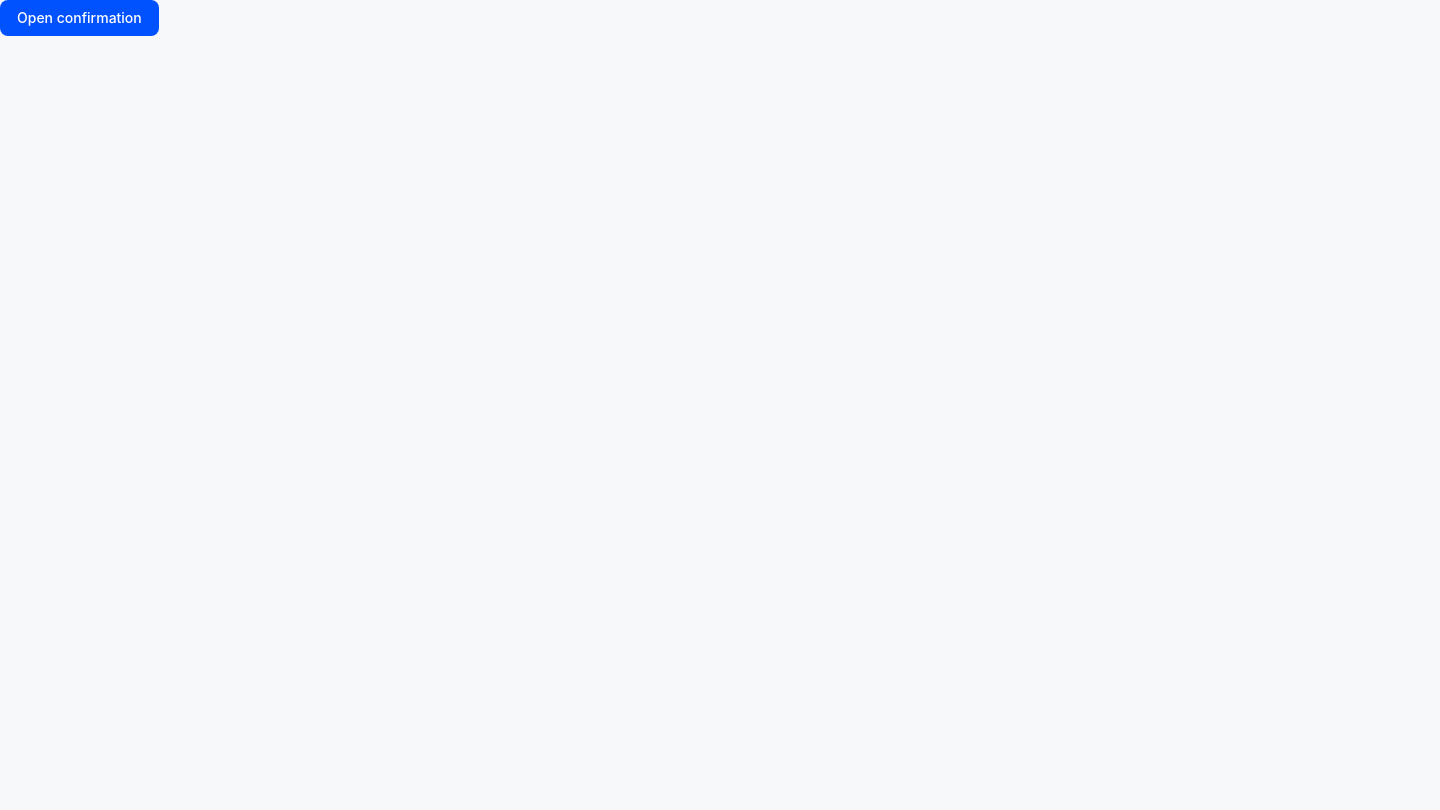
Dialog (jsdom) › opens with accessible title and description, closes via Escape, and restores focus
Click the button "Open confirmation" at (79, 18), box [0,0,159,36]
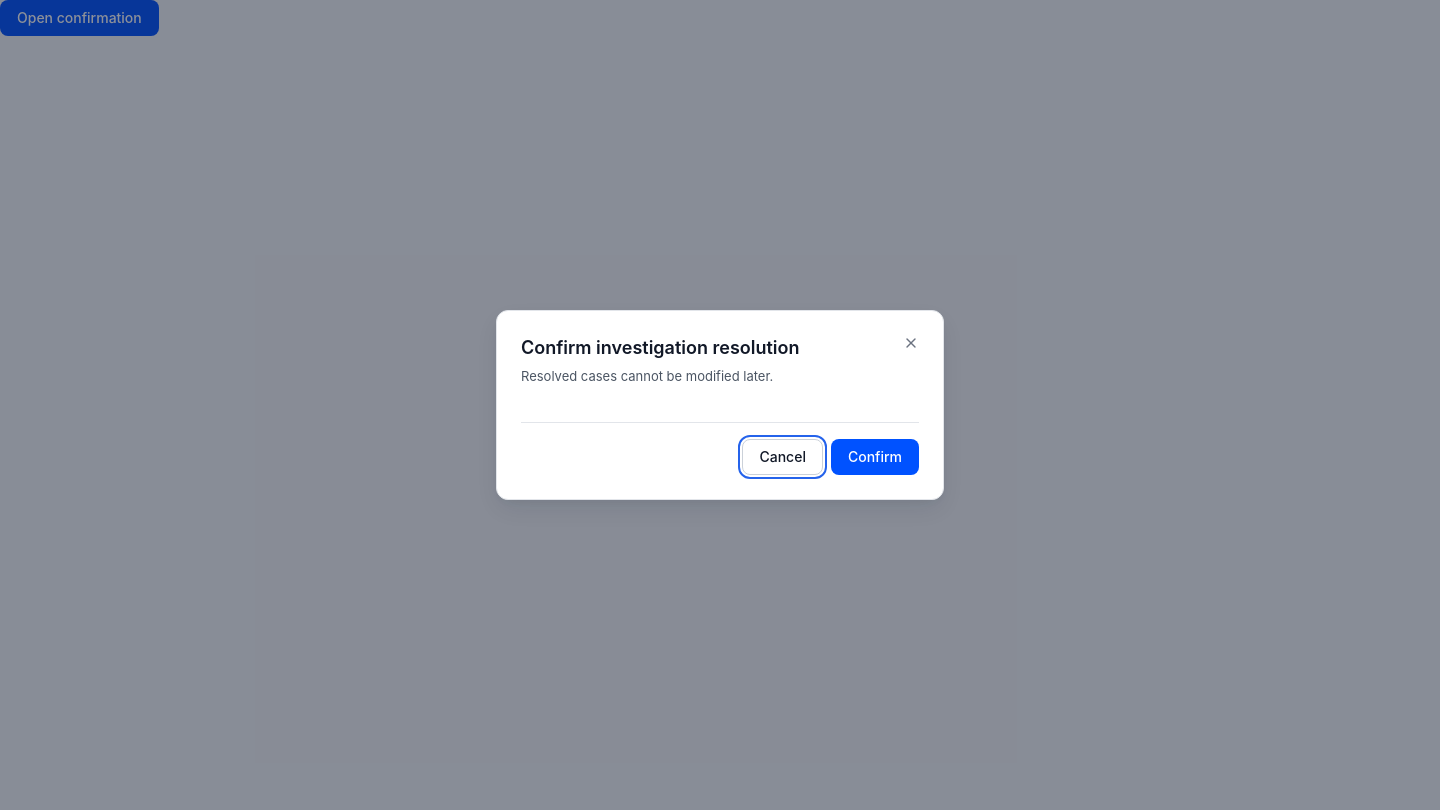
Expected: the button named "Close dialog" is shown, [895,327,927,359]
Press Escape
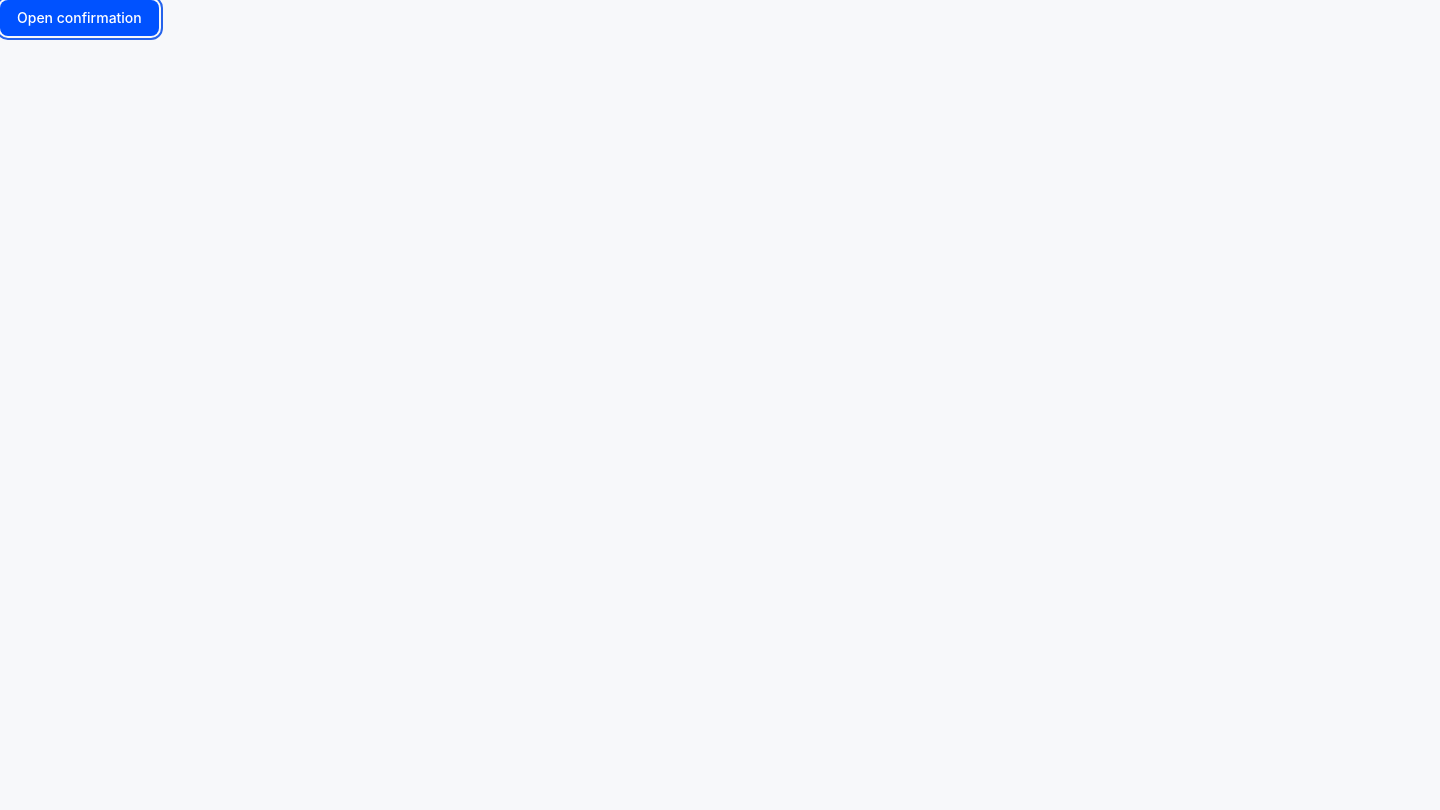
Expected: the dialog is gone
